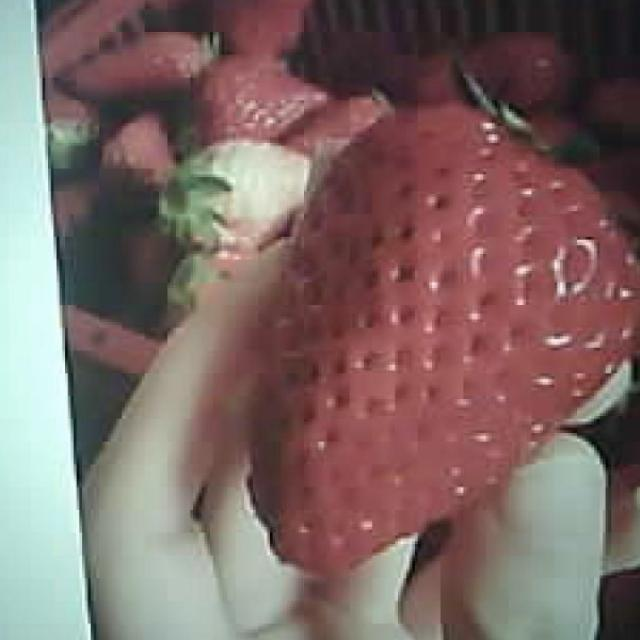Healthy Fruit: (245, 98, 638, 580)
